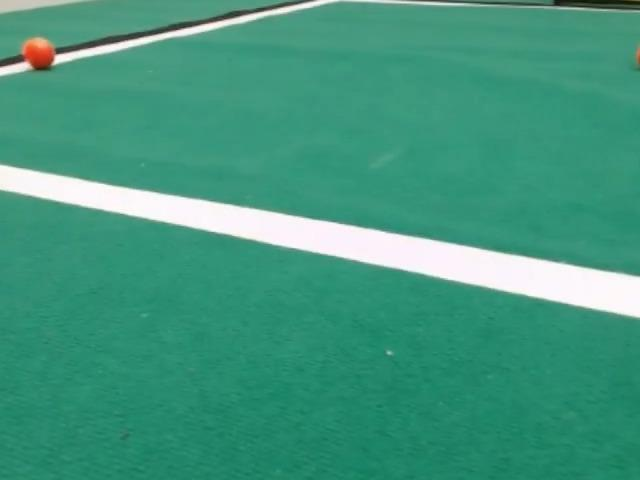Ball: (22, 37, 55, 69), (637, 47, 639, 66)
